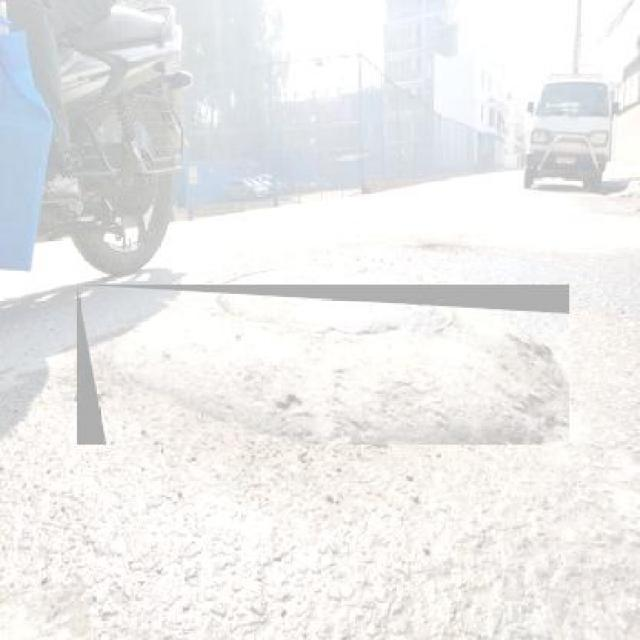Manhole: (81, 288, 574, 448)
Pothole: (413, 236, 487, 262)
